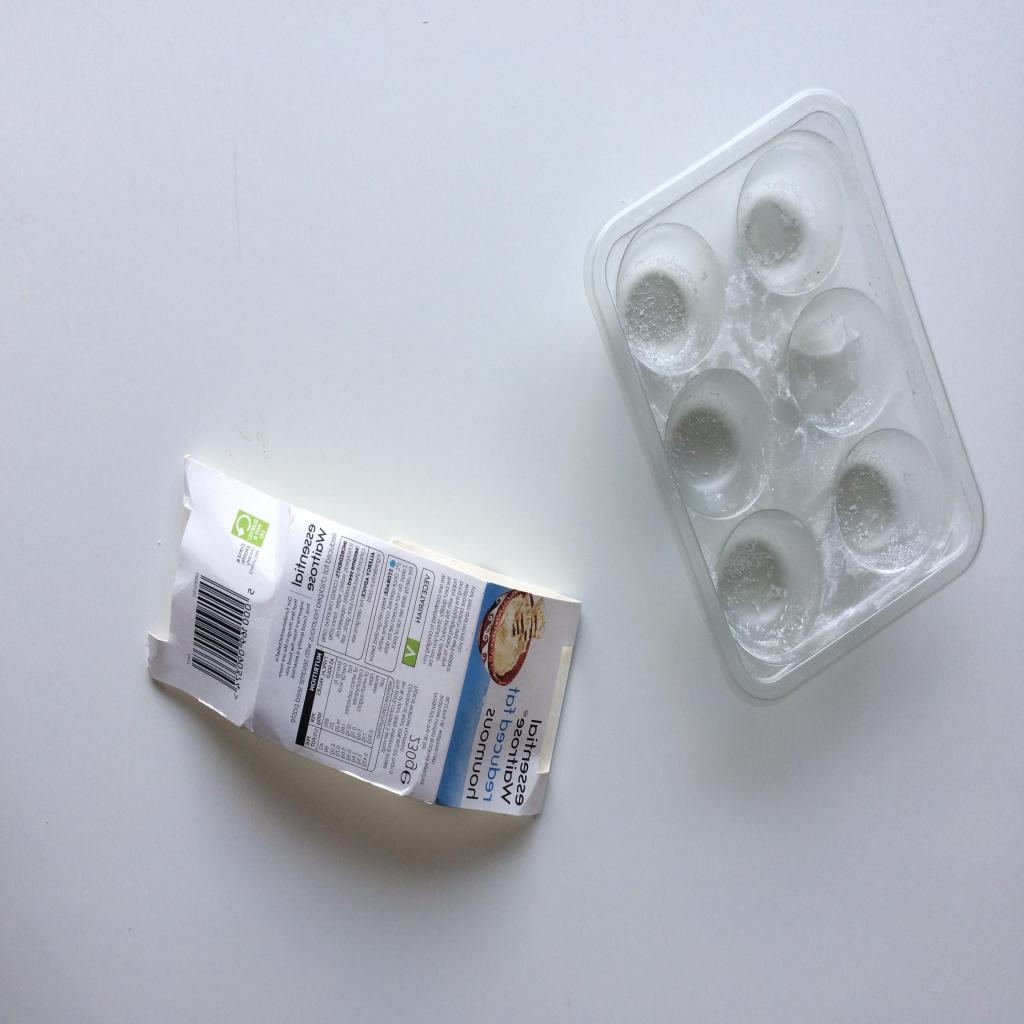Other carton: (148, 454, 582, 816)
